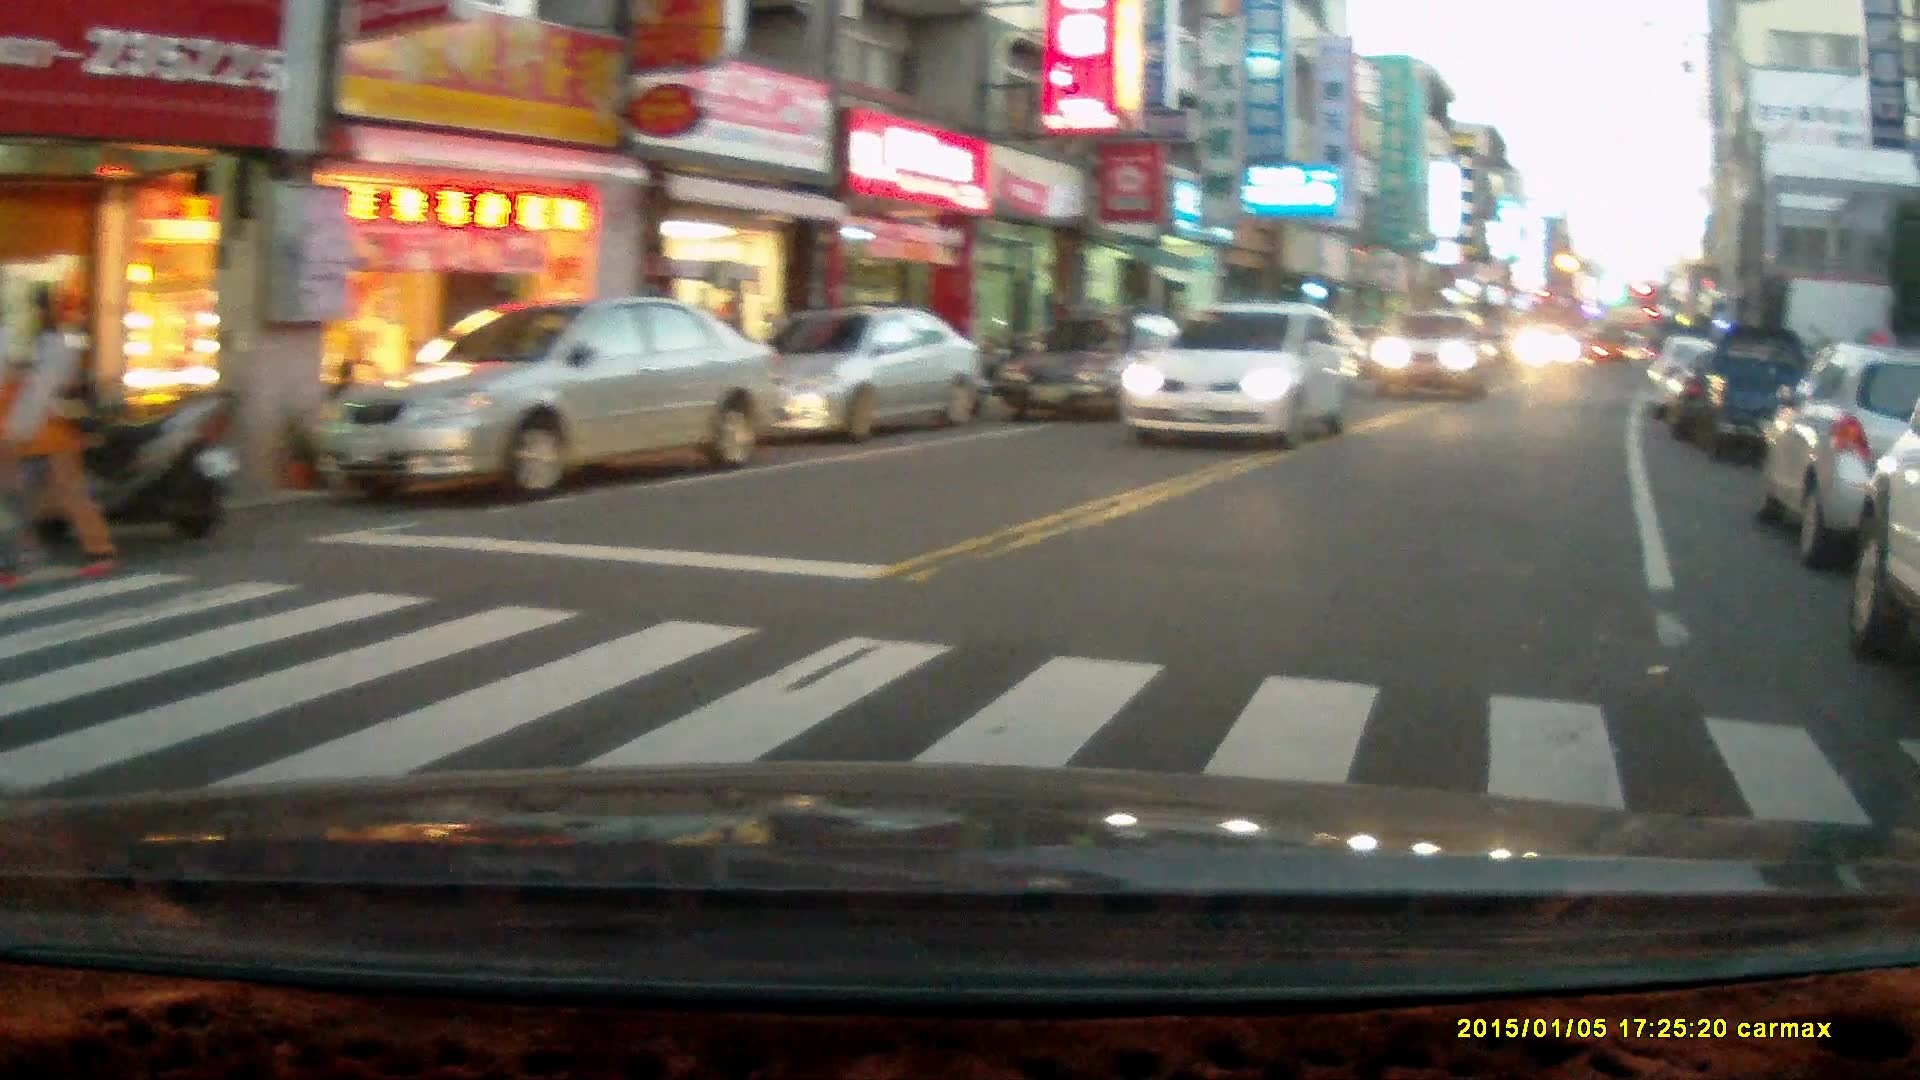pedestrian: (4, 278, 121, 587)
vehicle: (314, 291, 790, 506), (1118, 296, 1362, 448), (1761, 333, 1920, 561), (711, 304, 987, 434), (1004, 315, 1201, 431), (1678, 320, 1822, 462), (1362, 304, 1499, 395), (1511, 318, 1581, 369)
